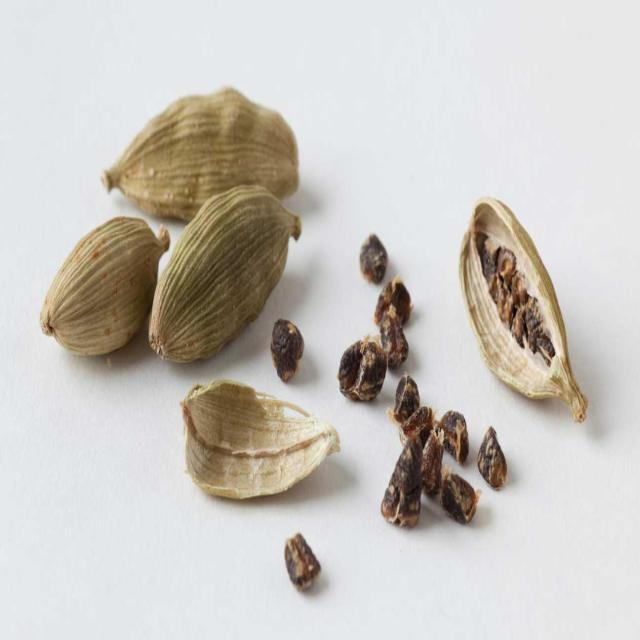Cardamom: (454, 171, 594, 429), (91, 70, 308, 228), (145, 178, 306, 369), (36, 212, 176, 366)
